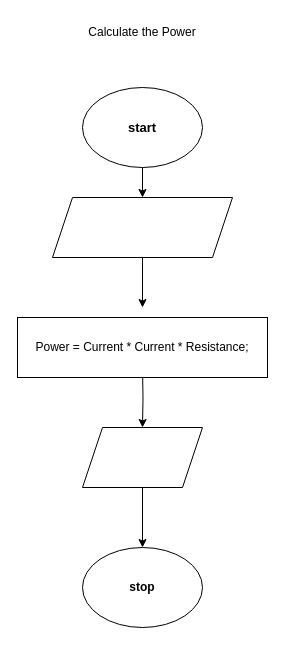
Image size: 285x645. Some labels were removed from this diagram. Each missing label, with the centre of its shape:
Print Power: the point at 142,457
Read Current ,Resistance: the point at 142,227
